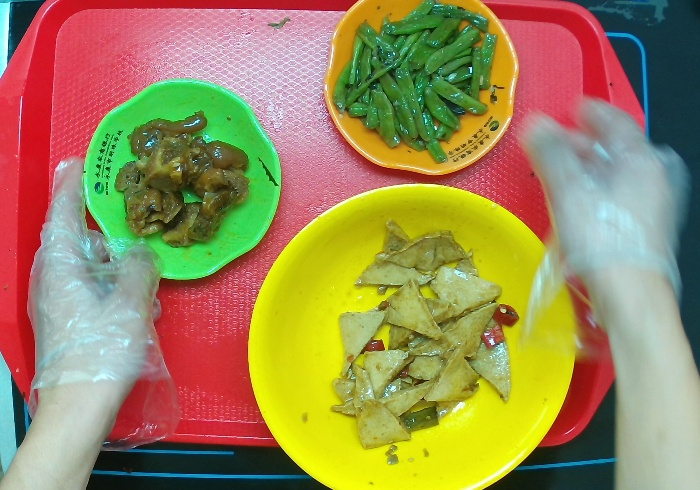YKMZ-Huang_Se_Tang_Wan: (239, 175, 592, 490)
YKMZ-Ju_Se_Ao_Bian_Wan: (320, 1, 528, 184)
YKMZ-Lv_Se_Ao_Bian_Wan: (73, 72, 291, 297)
